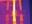Hotspot: (13, 0, 16, 23)
